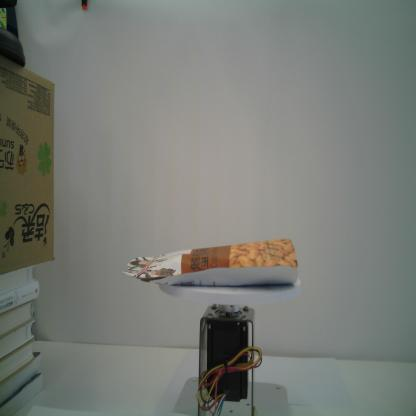Dried Fruit: (121, 238, 299, 287)
